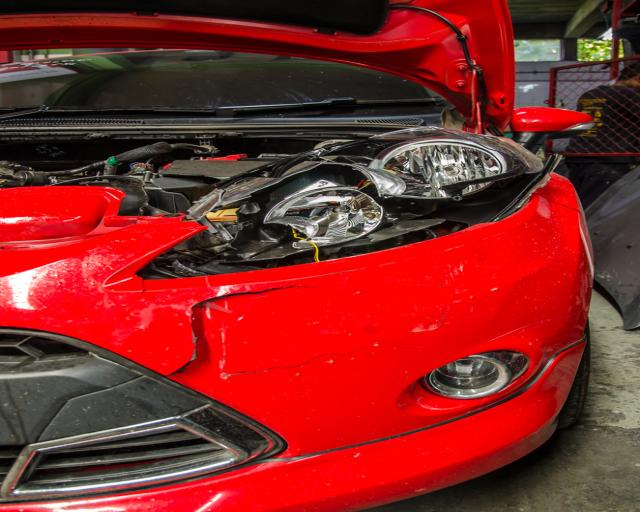crack: (163, 285, 356, 379), (221, 340, 423, 377)
lamp broken: (133, 129, 545, 280)
